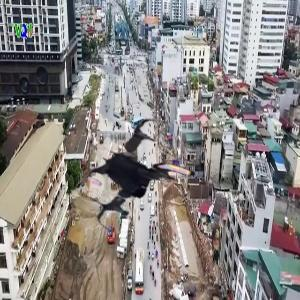drone: (78, 115, 211, 248)
